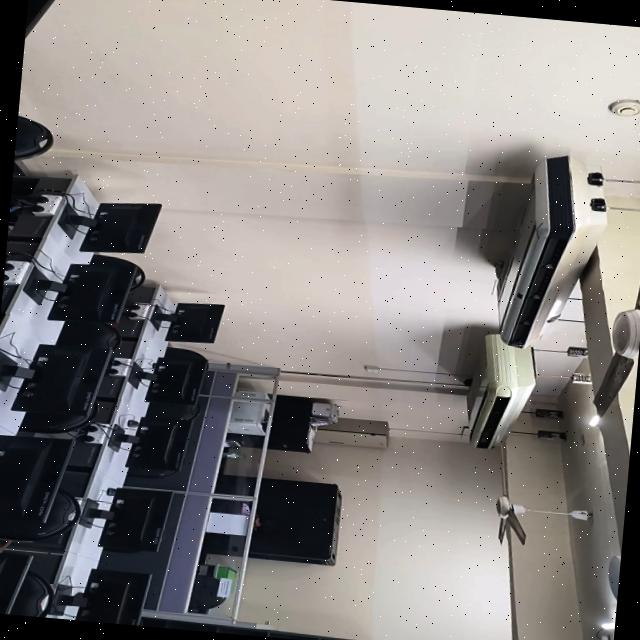Ac: (480, 153, 616, 354), (454, 338, 538, 452)
Chair: (13, 108, 57, 162), (49, 322, 126, 349), (44, 489, 80, 538), (140, 401, 200, 421)
Light: (593, 618, 615, 634), (582, 413, 602, 428)
Monitor: (0, 331, 91, 419), (56, 197, 173, 262), (22, 260, 124, 326), (0, 432, 71, 524), (54, 562, 152, 626), (80, 482, 163, 551), (124, 352, 204, 406), (106, 418, 186, 472), (153, 298, 224, 346), (0, 550, 32, 615), (23, 0, 61, 46)
Mouse: (125, 418, 136, 428)
